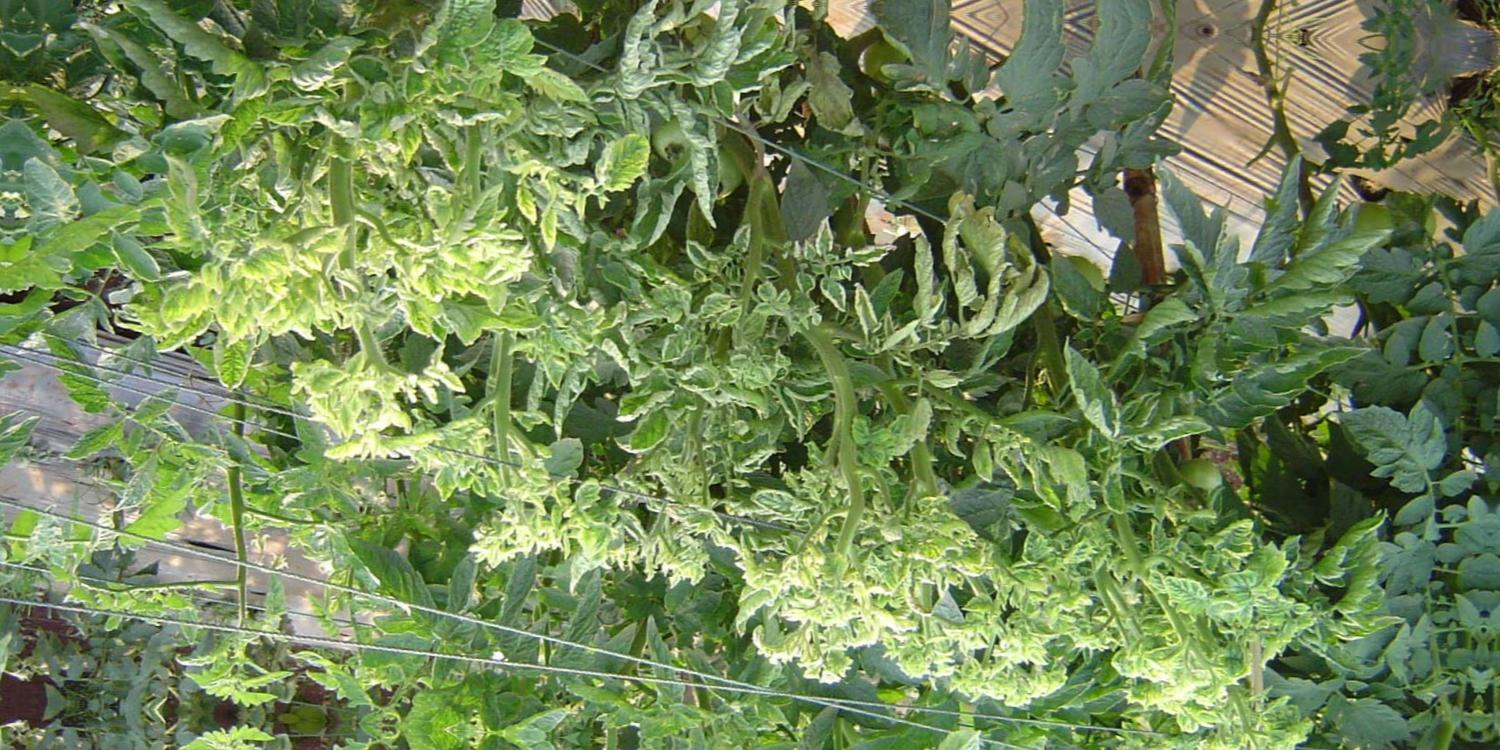Tomato leaf yellow virus: (839, 397, 942, 483), (410, 0, 509, 72), (1057, 340, 1129, 437), (596, 133, 654, 198), (451, 221, 500, 291), (623, 399, 682, 453), (1188, 515, 1266, 555), (168, 272, 218, 334), (241, 250, 279, 331), (819, 247, 863, 314), (673, 358, 733, 396), (391, 243, 429, 296), (691, 282, 738, 322), (732, 203, 752, 269), (684, 235, 720, 269), (756, 273, 780, 307), (791, 259, 812, 296), (318, 288, 342, 317)
